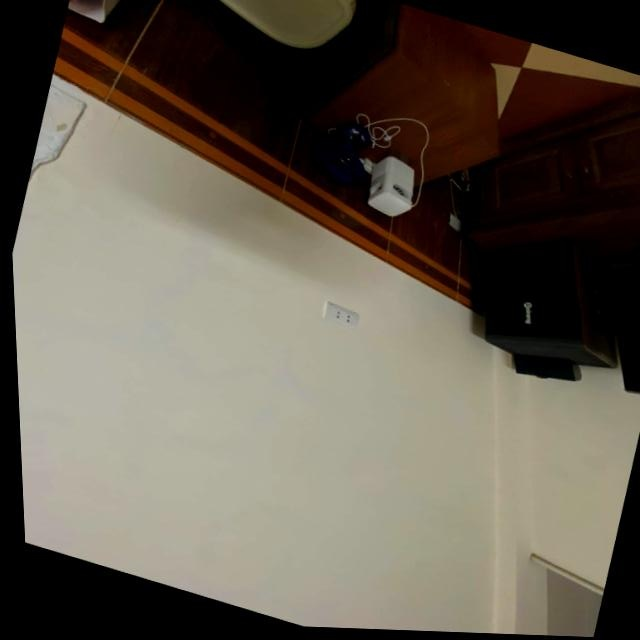outlet: (322, 300, 363, 330)
